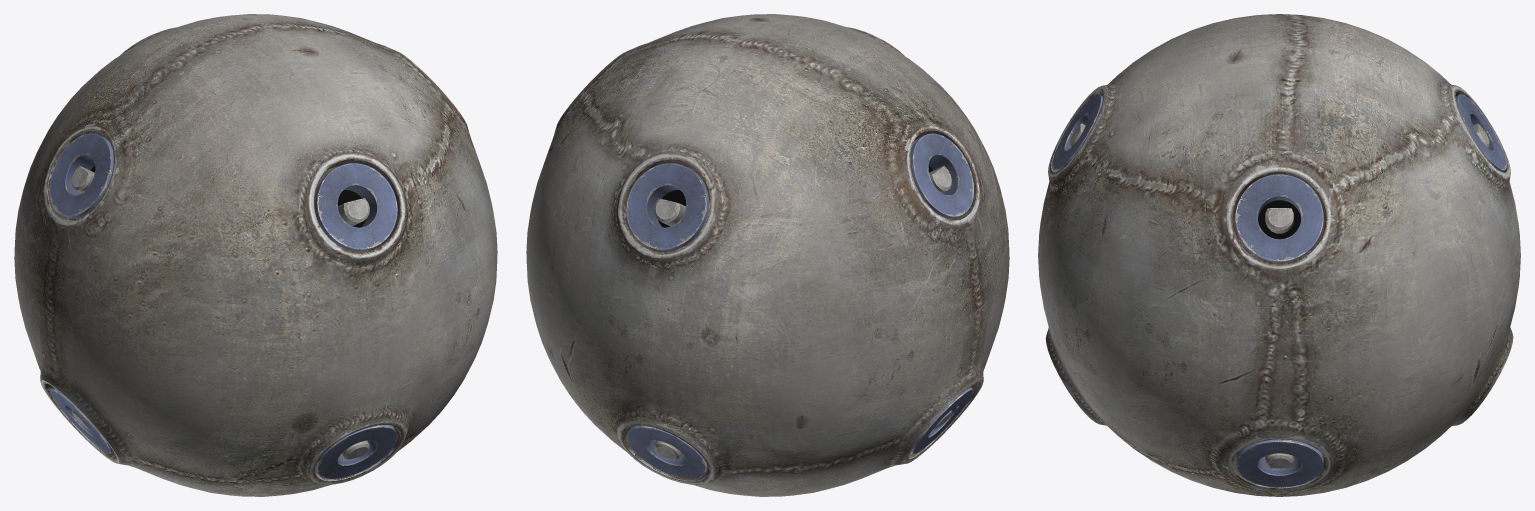
File: hoverball.fbx
The picture shows the model from 3 angles, left to right: view 1: azimuth 30°, elevation 25°; view 2: azimuth 150°, elevation 25°; view 3: azimuth 270°, elevation 25°; orthographic projection.
Parts seen in each view (by area): view 1: hoverball, hoverball_coils, hoverball_pins; view 2: hoverball, hoverball_coils, hoverball_pins; view 3: hoverball, hoverball_coils, hoverball_pins.
Part boxes in pixels (<box>): hoverball: <box>14,14,497,496</box>; hoverball_coils: <box>49,133,397,478</box>; hoverball_pins: <box>72,166,369,459</box>; hoverball: <box>526,14,1009,496</box>; hoverball_coils: <box>626,133,973,478</box>; hoverball_pins: <box>654,166,951,459</box>; hoverball: <box>1038,14,1520,496</box>; hoverball_coils: <box>1052,94,1506,487</box>; hoverball_pins: <box>1070,123,1489,468</box>.
Bounding box in the file's own units: 15.8 × 15.8 × 15.8.
1 material, 1 textured.
